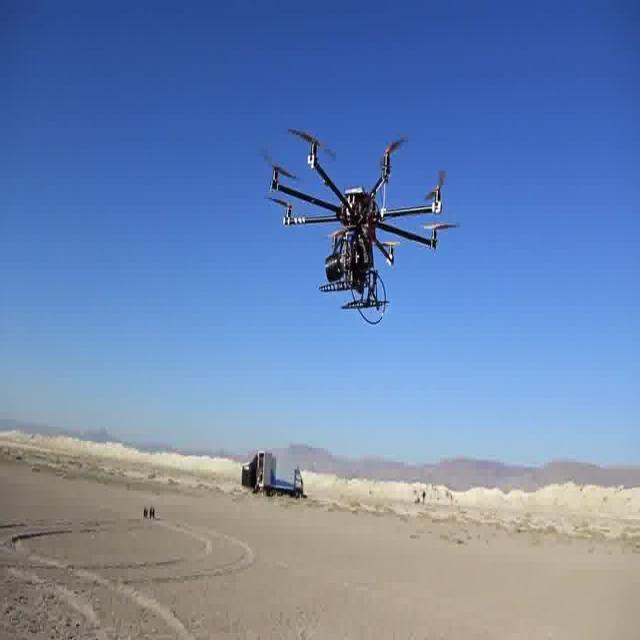Drone_FW: (261, 127, 459, 326)
